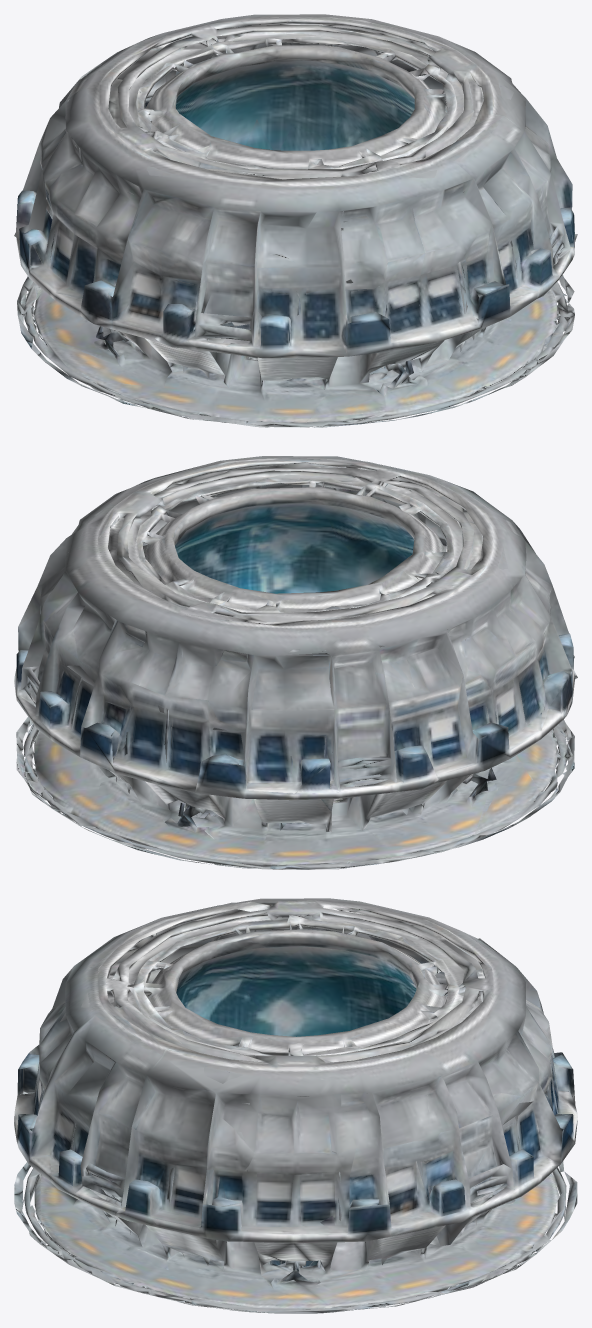
Rendered from station_command_center.repacked.glb.
3 renders of one model, top to bottom at view 1: azimuth 30°, elevation 25°; view 2: azimuth 150°, elevation 25°; view 3: azimuth 270°, elevation 25°, orthographic.
Parts seen in each view (by area): view 1: Mesh1.0; view 2: Mesh1.0; view 3: Mesh1.0.
Part boxes in pixels (left/top/right/bottom): Mesh1.0: left=14, top=14, right=577, bottom=427; Mesh1.0: left=14, top=456, right=577, bottom=869; Mesh1.0: left=14, top=898, right=577, bottom=1313.
Bounding box in the file's own units: 1.9 × 0.8263 × 1.9.
1 material, 1 textured.
